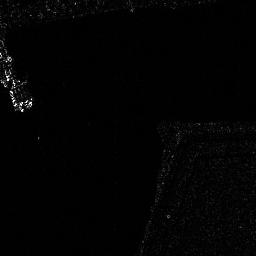ship: (7, 88, 25, 112)
